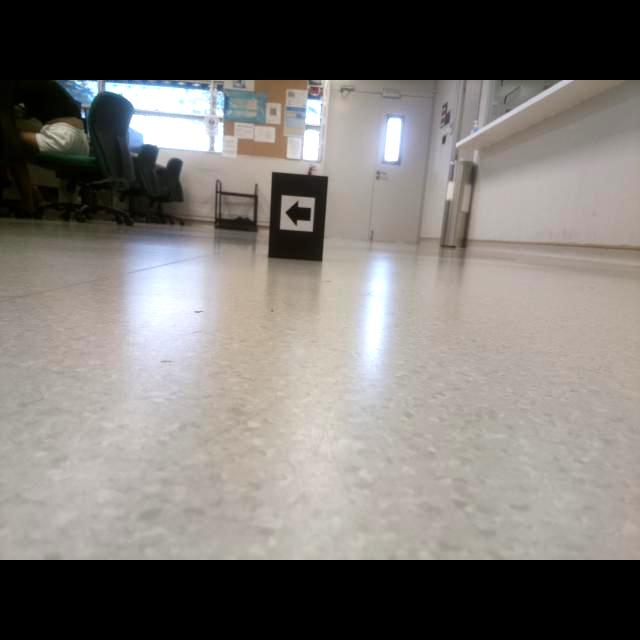LEFT: (284, 199, 312, 228)
